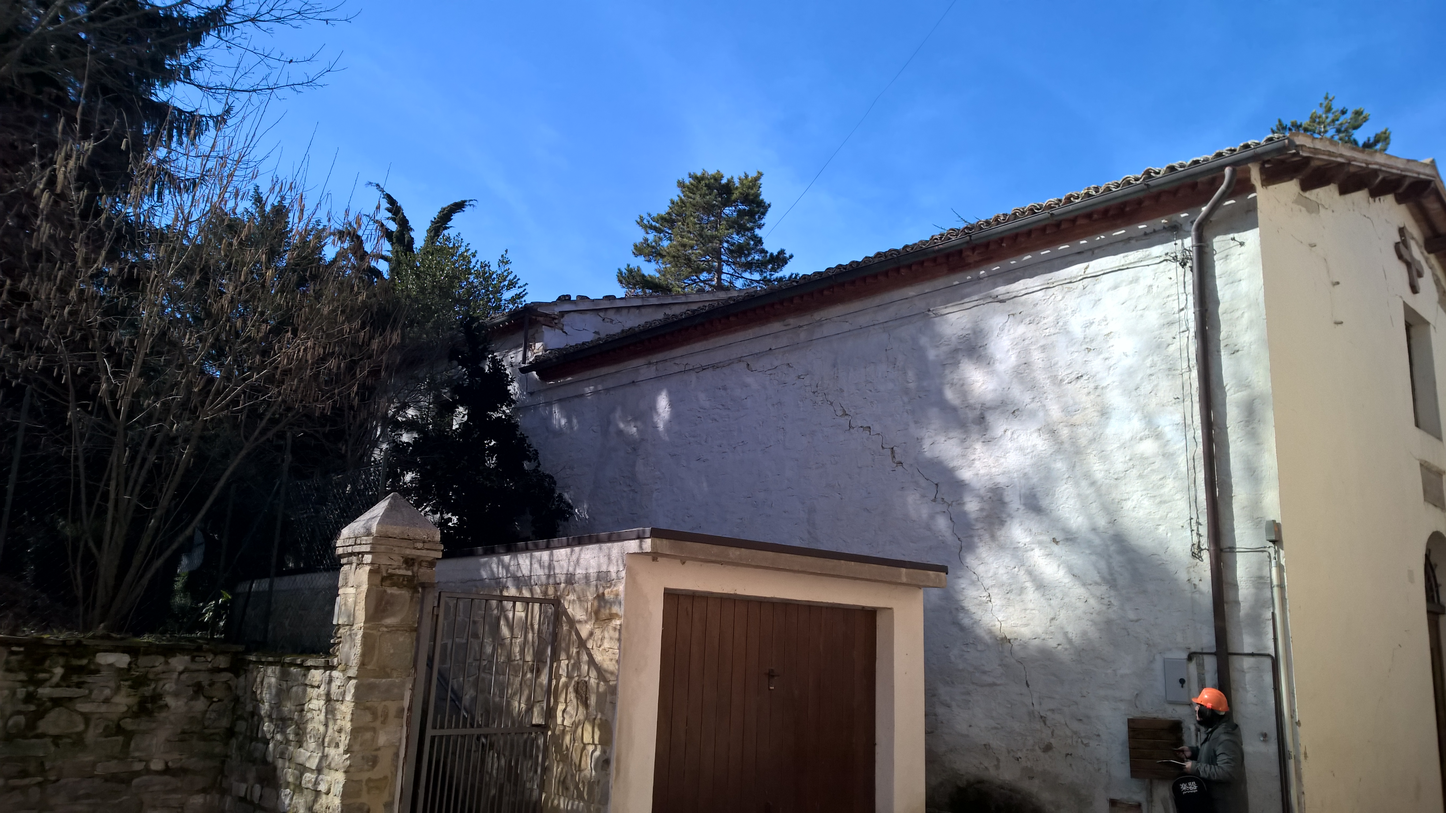Crack: (533, 291, 1090, 784), (1266, 177, 1400, 333)
